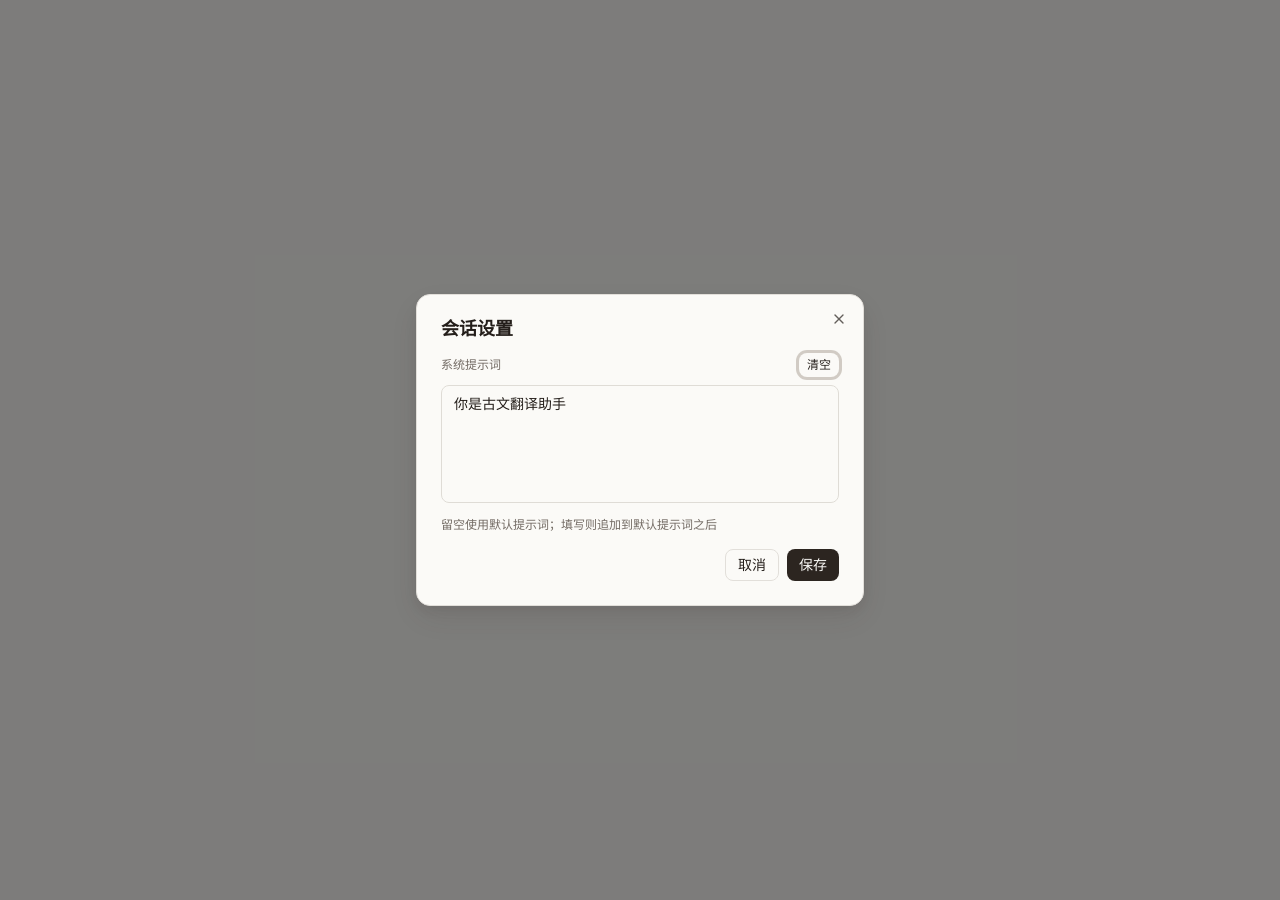
SessionConfigDialog › clears the prompt draft when the clear button is clicked
What coordinates should you click on to do the following:
click the button "清空"
I would click on:
 (819, 365)
Its box is [799, 353, 839, 377].
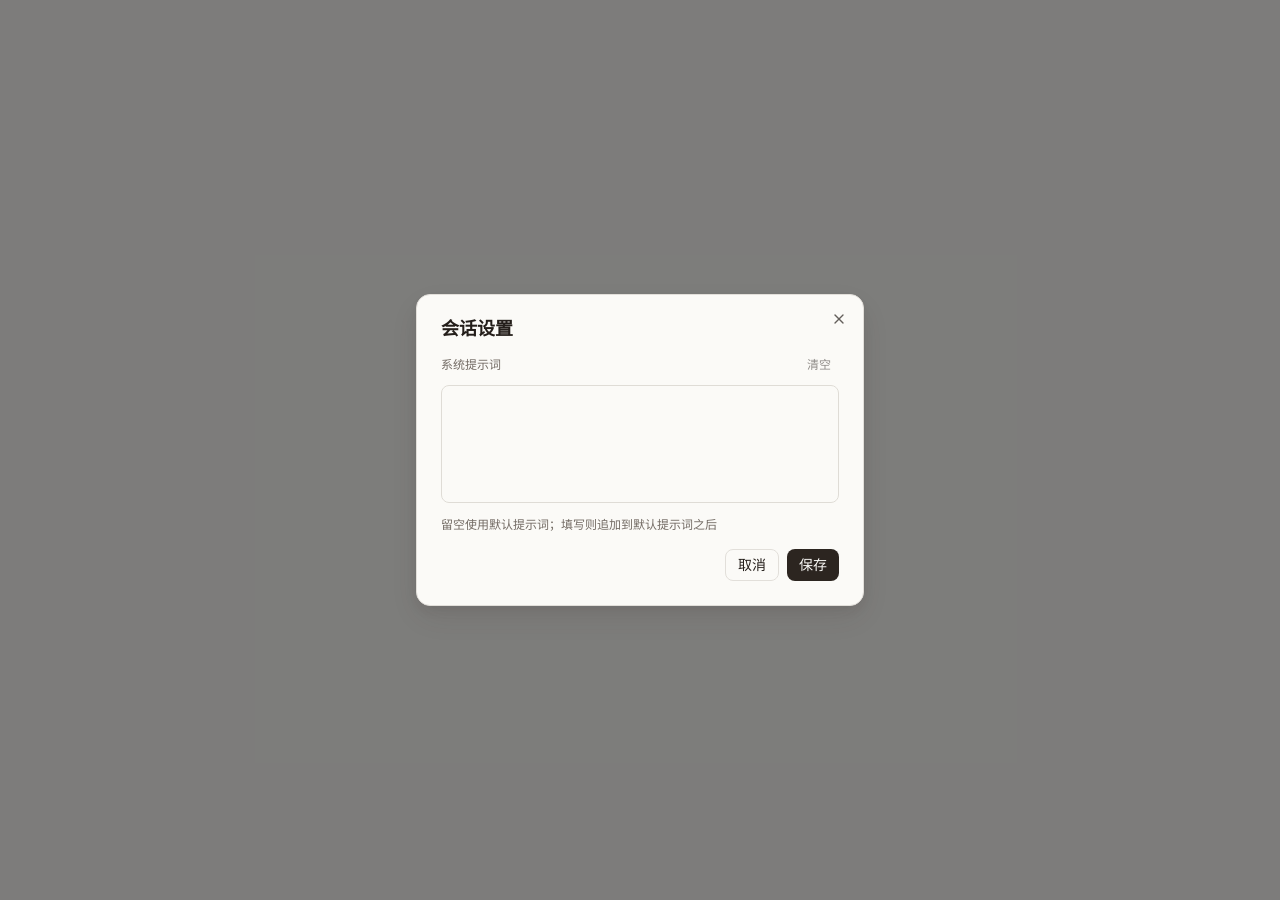
Expected: the text box is empty, [441, 385, 839, 503]
